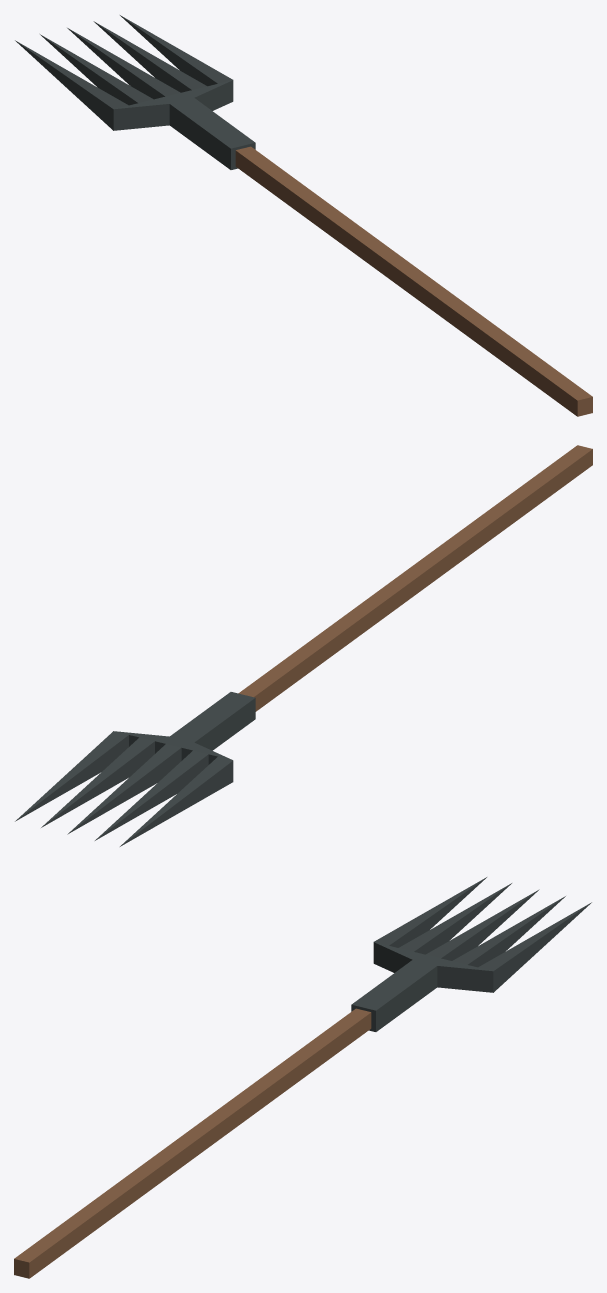
File: Pitchfork_1_Light_Brown.fbx
3 views of the same model, one above another, from view 1: azimuth 30°, elevation 25°; view 2: azimuth 150°, elevation 25°; view 3: azimuth 330°, elevation 25° (orthographic).
Visible parts, largest first — view 1: Pitchfork_1_Light_Brown; view 2: Pitchfork_1_Light_Brown; view 3: Pitchfork_1_Light_Brown.
Part boxes in pixels (x1,y1,x2,y2): Pitchfork_1_Light_Brown: (15,15,592,416); Pitchfork_1_Light_Brown: (15,445,592,846); Pitchfork_1_Light_Brown: (14,877,591,1278).
Size of the model in its own units: 46.49 by 8 by 348.
